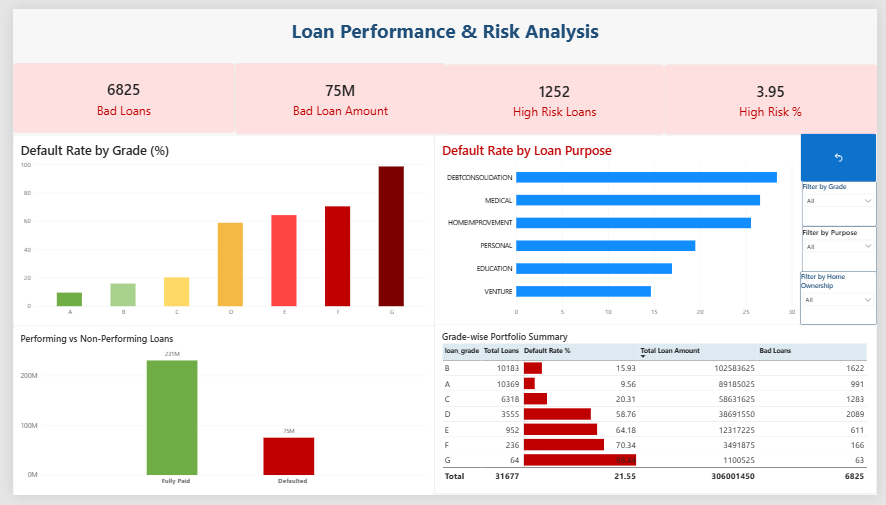

This screenshot's page, from the dashboard's own definition file:
{"tool":"powerbi","page":{"name":"Loan Performance ","canvas":[1920,1080],"ordinal":1},"visuals":[{"type":"card","fields":{"Values":["credit_risk_dataset.Bad Loans"]},"box":[0,120.5,492.7,155.3],"z":0},{"type":"card","fields":{"Values":["credit_risk_dataset.Bad Loan Amount"]},"box":[492.7,120.5,468.6,158],"z":1000},{"type":"card","fields":{"Values":["credit_risk_dataset.High Risk Loans"]},"box":[958.7,123.2,487.4,155.3],"z":2000},{"type":"card","fields":{"Values":["credit_risk_dataset.High Risk %"]},"box":[1446,123.2,474,155.3],"z":3000},{"type":"textbox","box":[0,0,1920,95.9],"z":4000},{"type":"clusteredColumnChart","title":"Default Rate by Grade (%)","fields":{"Category":["credit_risk_dataset.loan_grade"],"Y":["credit_risk_dataset.Default Rate %"]},"box":[0,278.5,937.2,425.8],"z":5000},{"type":"barChart","title":"Default Rate by Loan Purpose","fields":{"Category":["credit_risk_dataset.loan_intent"],"Y":["credit_risk_dataset.Default Rate %"]},"box":[937.2,278.5,819.4,425.8],"z":6000},{"type":"clusteredColumnChart","title":"Performing vs Non-Performing Loans","fields":{"Category":["credit_risk_dataset.CustomLoan_Status_Text"],"Y":["credit_risk_dataset.Total Loan Amount"]},"box":[0,704.3,937.2,377.6],"z":7000},{"type":"tableEx","title":"Grade-wise Portfolio Summary","fields":{"Values":["credit_risk_dataset.loan_grade","credit_risk_dataset.Total Loans","credit_risk_dataset.Default Rate %","credit_risk_dataset.Total Loan Amount","credit_risk_dataset.Bad Loans"]},"box":[937.2,701.6,982.8,377.6],"z":8000},{"type":"slicer","title":"Filter by Grade","fields":{"Values":["credit_risk_dataset.loan_grade"]},"box":[1754,382.9,166,99.1],"z":9000},{"type":"slicer","title":"Filter by Purpose","fields":{"Values":["credit_risk_dataset.loan_intent"]},"box":[1754,482,166,101.8],"z":10000},{"type":"slicer","title":"Filter by Home Ownership","fields":{"Values":["credit_risk_dataset.person_home_ownership"]},"box":[1751.3,583.8,168.7,117.8],"z":11000},{"type":"actionButton","box":[1751.3,275.8,168.7,107.1],"z":12000}]}

Visuals, with their boxes in screenshot pixels (x1, y1, x2, y2), scaled from the page's 1920x1080 canvas onto the 886x505 screenshot:
card - credit_risk_dataset.Bad Loans: x1=0, y1=56, x2=227, y2=129
card - credit_risk_dataset.Bad Loan Amount: x1=227, y1=56, x2=444, y2=130
card - credit_risk_dataset.High Risk Loans: x1=442, y1=58, x2=667, y2=130
card - credit_risk_dataset.High Risk %: x1=667, y1=58, x2=885, y2=130
textbox: x1=0, y1=0, x2=885, y2=45
"Default Rate by Grade (%)" clusteredColumnChart: x1=0, y1=130, x2=432, y2=329
"Default Rate by Loan Purpose" barChart: x1=432, y1=130, x2=811, y2=329
"Performing vs Non-Performing Loans" clusteredColumnChart: x1=0, y1=329, x2=432, y2=504
"Grade-wise Portfolio Summary" tableEx: x1=432, y1=328, x2=885, y2=504
"Filter by Grade" slicer: x1=809, y1=179, x2=885, y2=225
"Filter by Purpose" slicer: x1=809, y1=225, x2=885, y2=273
"Filter by Home Ownership" slicer: x1=808, y1=273, x2=885, y2=328
actionButton: x1=808, y1=129, x2=885, y2=179
